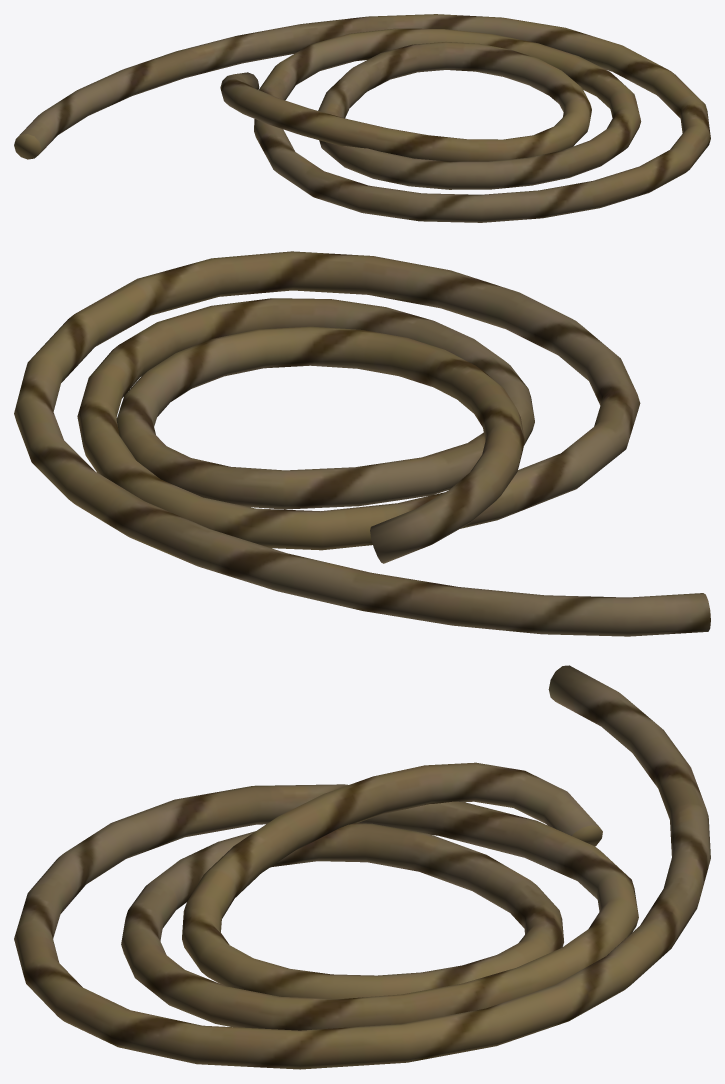
File: Rope 3.glb
3 renders of one model, top to bottom at view 1: azimuth 30°, elevation 25°; view 2: azimuth 150°, elevation 25°; view 3: azimuth 270°, elevation 25°, orthographic. The views are drawn at different scales.
Visible parts, largest first — view 1: Rope_3; view 2: Rope_3; view 3: Rope_3.
Part boxes in pixels (x1,y1,x2,y2): Rope_3: (14,14,710,222); Rope_3: (14,251,710,636); Rope_3: (14,665,710,1069).
Bounding box in the file's own units: 1.23 × 0.1018 × 0.9508.
1 material, 1 textured.
